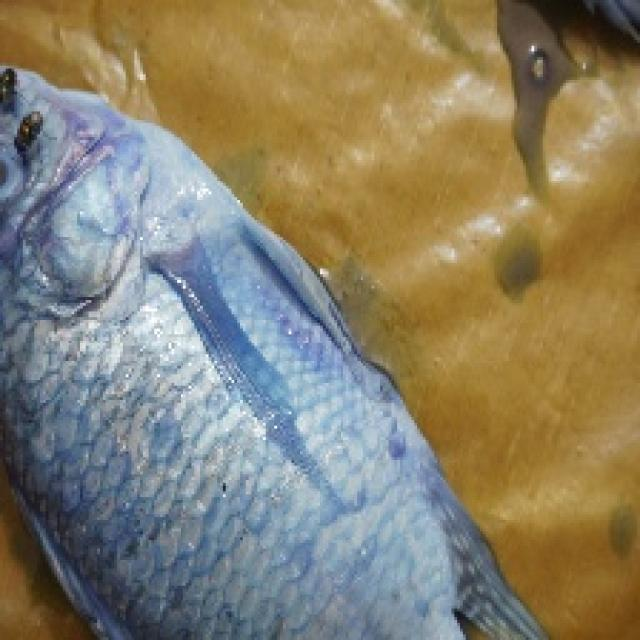Non-Fresh: (0, 44, 315, 452)
